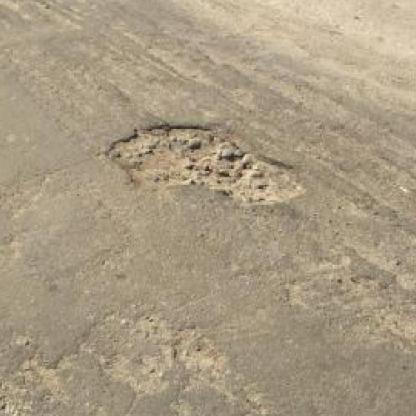pothole: (107, 123, 280, 191)
